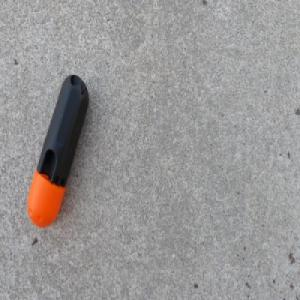PlasticPart: (25, 73, 89, 228)
